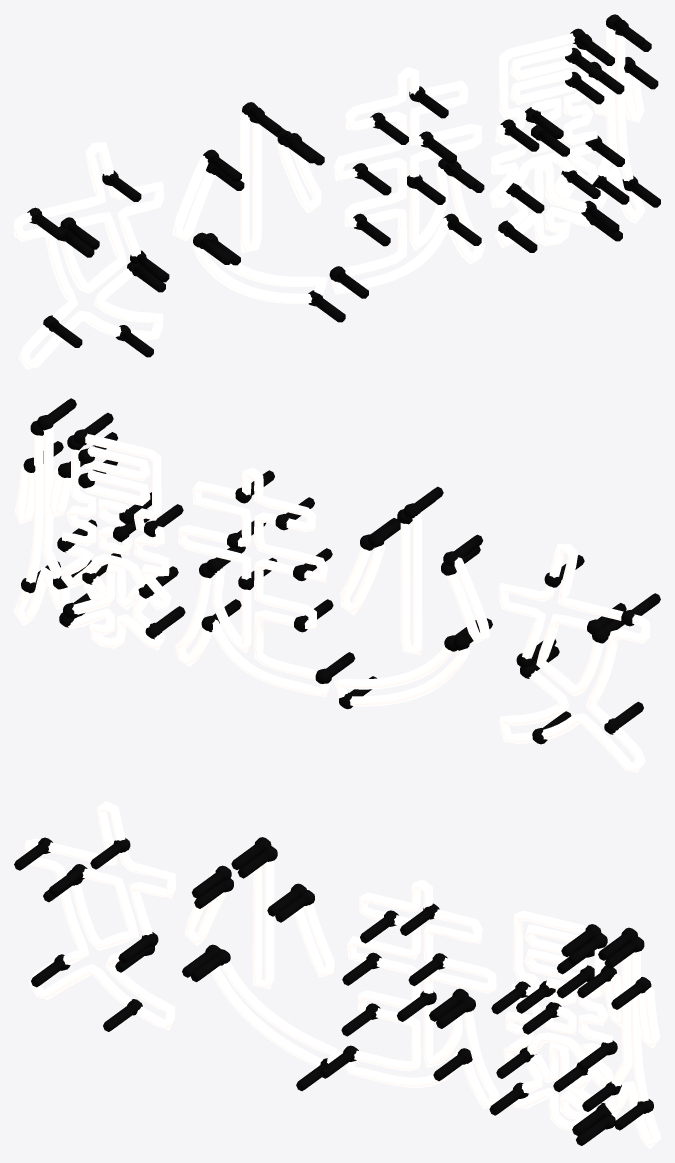
File: neon_bakusousyouzyo.fbx
3 views of the same model, one above another, from view 1: azimuth 30°, elevation 25°; view 2: azimuth 150°, elevation 25°; view 3: azimuth 330°, elevation 25° (orthographic).
Parts seen in each view (by area): view 1: NeonEnglish; view 2: NeonEnglish; view 3: NeonEnglish.
Part boxes in pixels (x1=…): NeonEnglish: x1=14, y1=14, x2=660, y2=369; NeonEnglish: x1=14, y1=398, x2=660, y2=772; NeonEnglish: x1=14, y1=801, x2=660, y2=1148.
Bounding box in the file's own units: 256 × 84.41 × 21.29.
